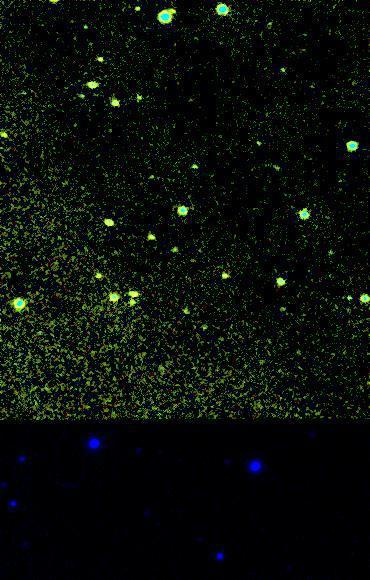star: (83, 45, 113, 75)
